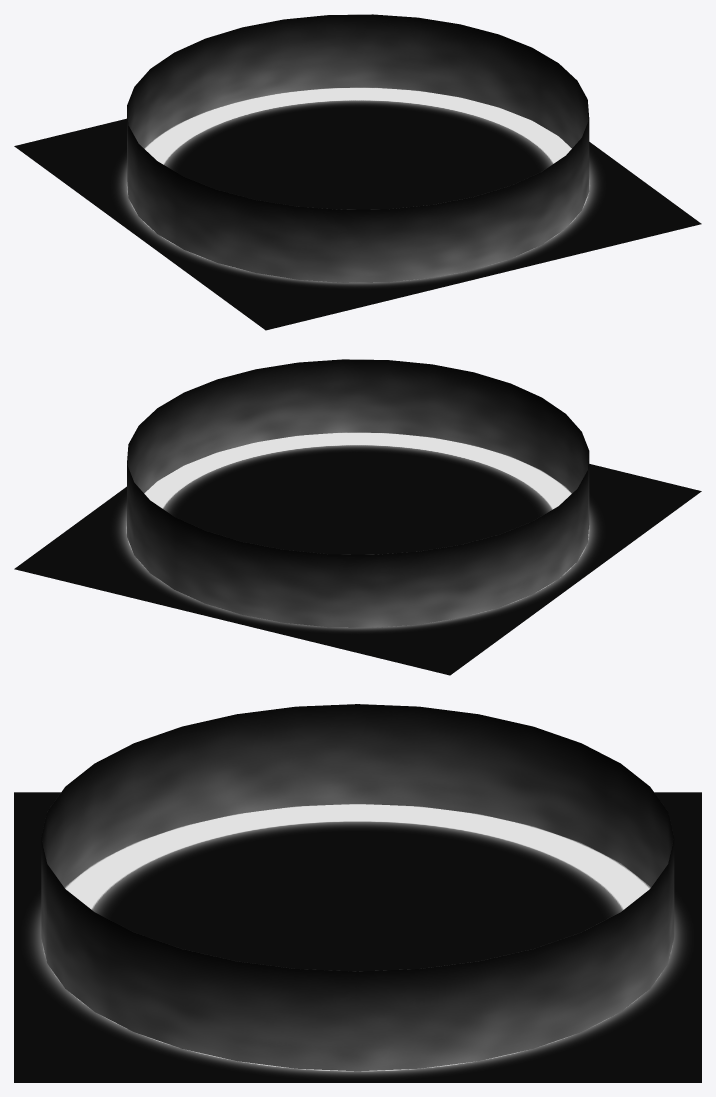
The model's file is teleport.FBX.
3 views of the same model, one above another, from view 1: azimuth 30°, elevation 25°; view 2: azimuth 150°, elevation 25°; view 3: azimuth 270°, elevation 25° (orthographic). The views are drawn at different scales.
Visible parts, largest first — view 1: Cylinder001, Plane001; view 2: Cylinder001, Plane001; view 3: Cylinder001, Plane001.
Boxes of the visible parts, box(x1,y1,x2,y2) form: Cylinder001: box(127, 14, 589, 282); Plane001: box(14, 87, 701, 330); Cylinder001: box(127, 359, 589, 627); Plane001: box(14, 432, 701, 675); Cylinder001: box(41, 704, 674, 1071); Plane001: box(14, 792, 701, 1082).
Bounding box in the file's own units: 1 × 0.16 × 1.
Materials: 2 (2 with a texture image).
